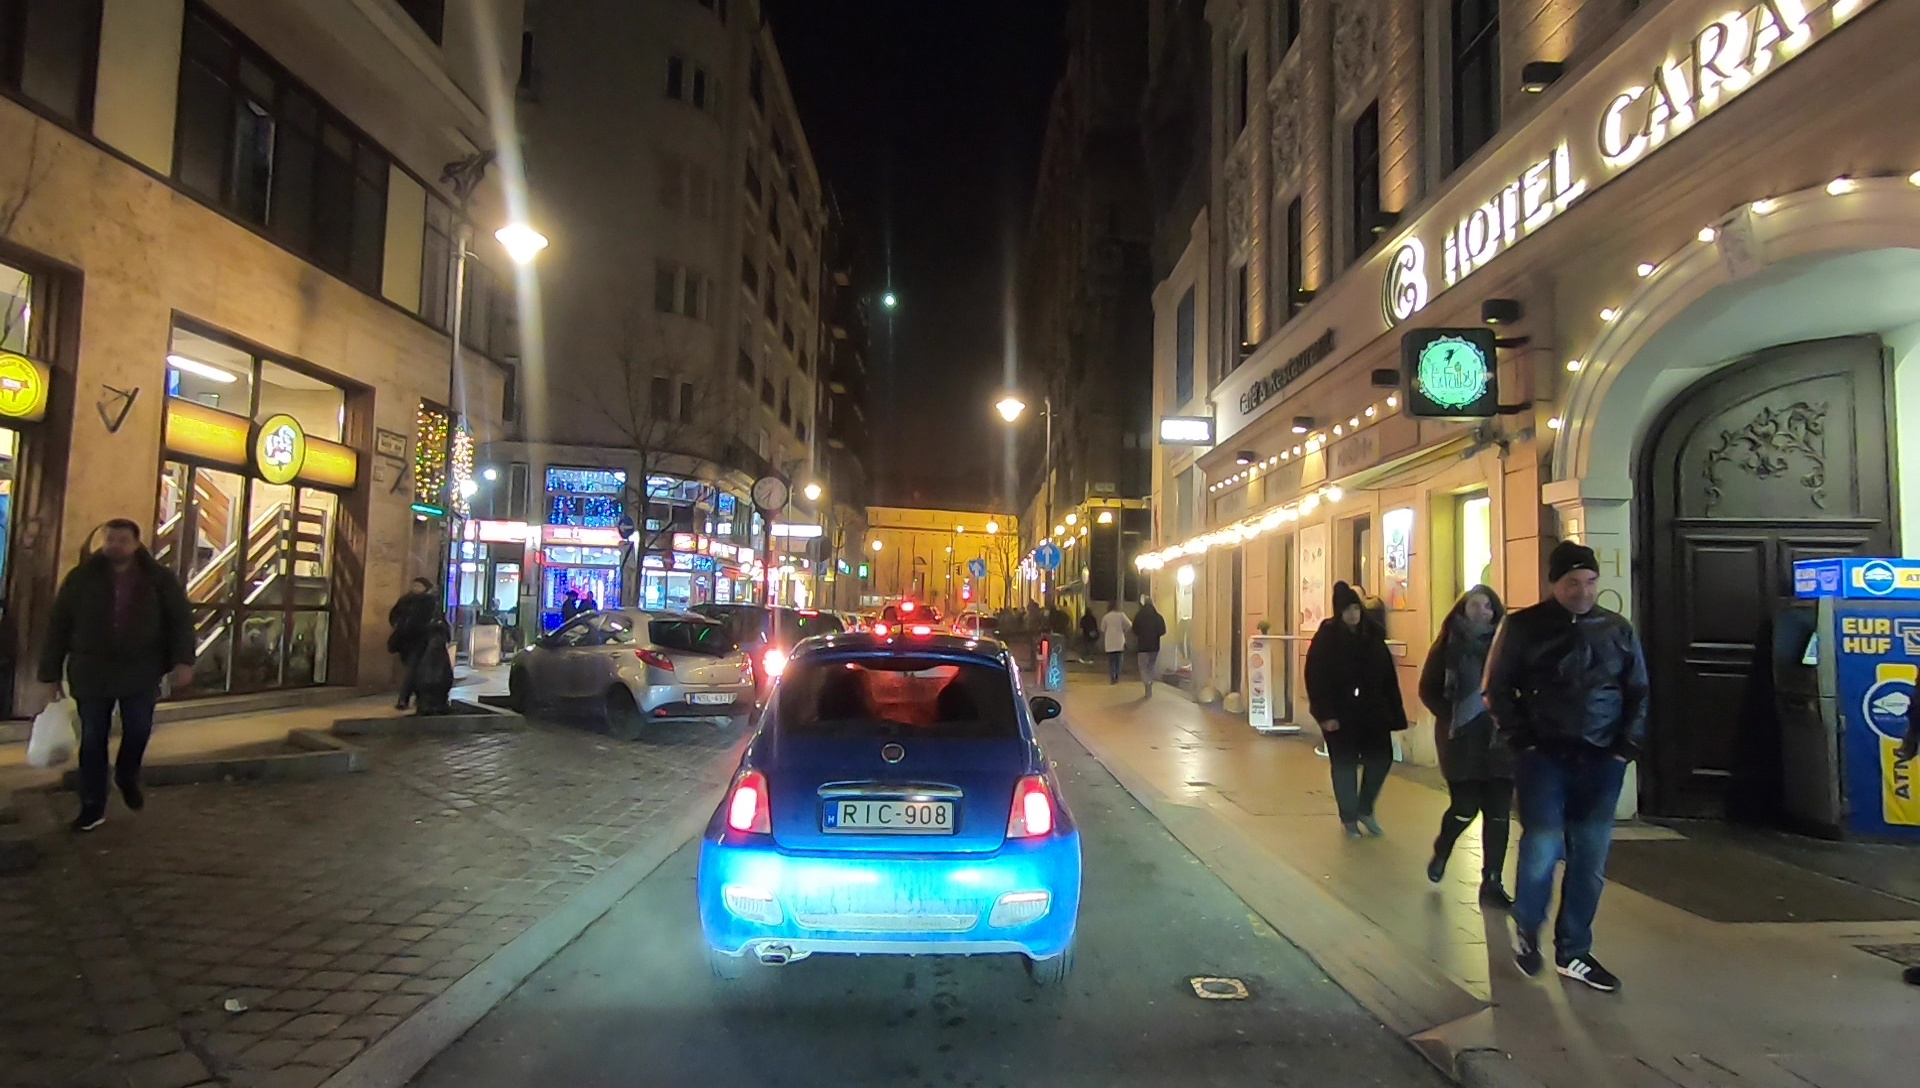person: (1508, 549, 1628, 1004), (45, 513, 178, 845), (1426, 563, 1519, 930), (1308, 584, 1397, 845), (391, 578, 445, 708), (1134, 595, 1167, 699), (1101, 604, 1128, 689)
